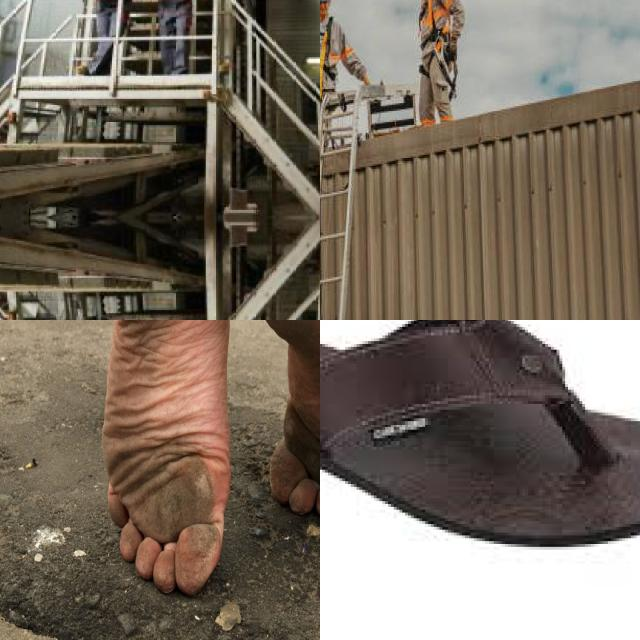Barefoots: (102, 320, 231, 596), (253, 320, 320, 521)
Ear-protection: (130, 0, 211, 112)
Harness: (417, 0, 459, 80), (320, 14, 340, 110)
Sandals: (320, 320, 640, 612)
person: (58, 0, 129, 82)
